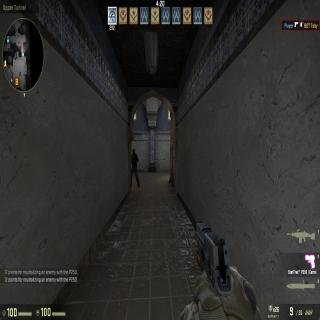T-Body: (130, 148, 139, 188)
T-Head: (132, 148, 136, 154)
